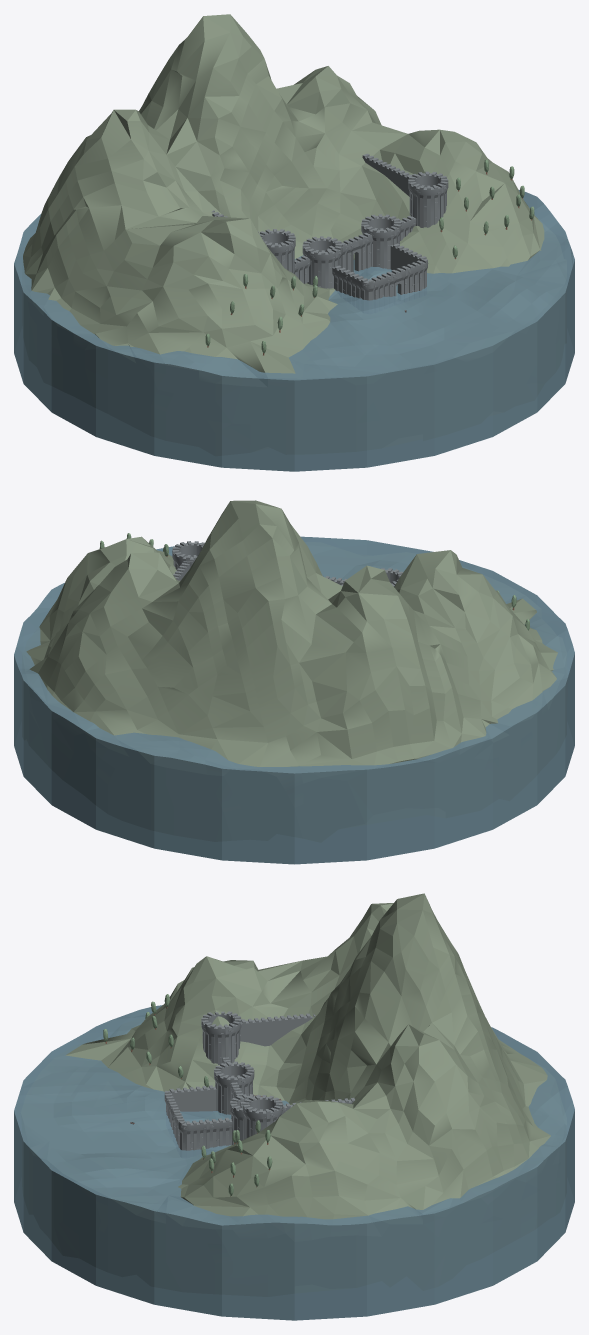
The model's file is island-kind2.glb.
The picture shows the model from 3 angles, top to bottom: view 1: azimuth 30°, elevation 25°; view 2: azimuth 150°, elevation 25°; view 3: azimuth 270°, elevation 25°; orthographic projection.
Visible parts, largest first — view 1: pDisc1, pDisc2, pCube38; view 2: pDisc1, pDisc2, pCube38; view 3: pDisc1, pDisc2, pCube38.
Boxes of the visible parts, <box> form: pDisc1: <box>23,14,544,373</box>; pDisc2: <box>14,190,574,471</box>; pCube38: <box>211,153,448,300</box>; pDisc1: <box>26,500,557,766</box>; pDisc2: <box>14,536,574,864</box>; pCube38: <box>172,541,402,586</box>; pDisc1: <box>65,893,550,1219</box>; pDisc2: <box>14,1005,574,1320</box>; pCube38: <box>164,1011,354,1150</box>.
Size of the model in its own units: 1.02 by 0.5925 by 1.02.
